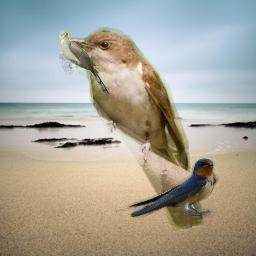Cuckoo: (62, 27, 204, 232), (59, 30, 110, 96)
Swallow: (113, 157, 219, 218)
